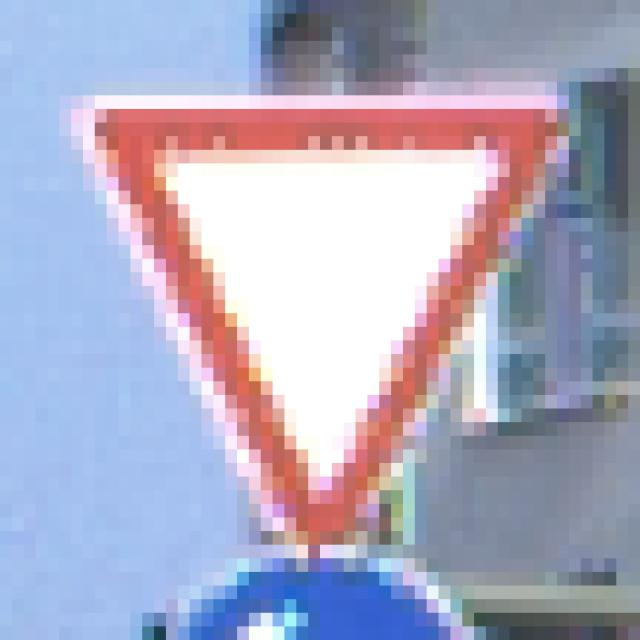Give Way: (60, 69, 582, 573)
